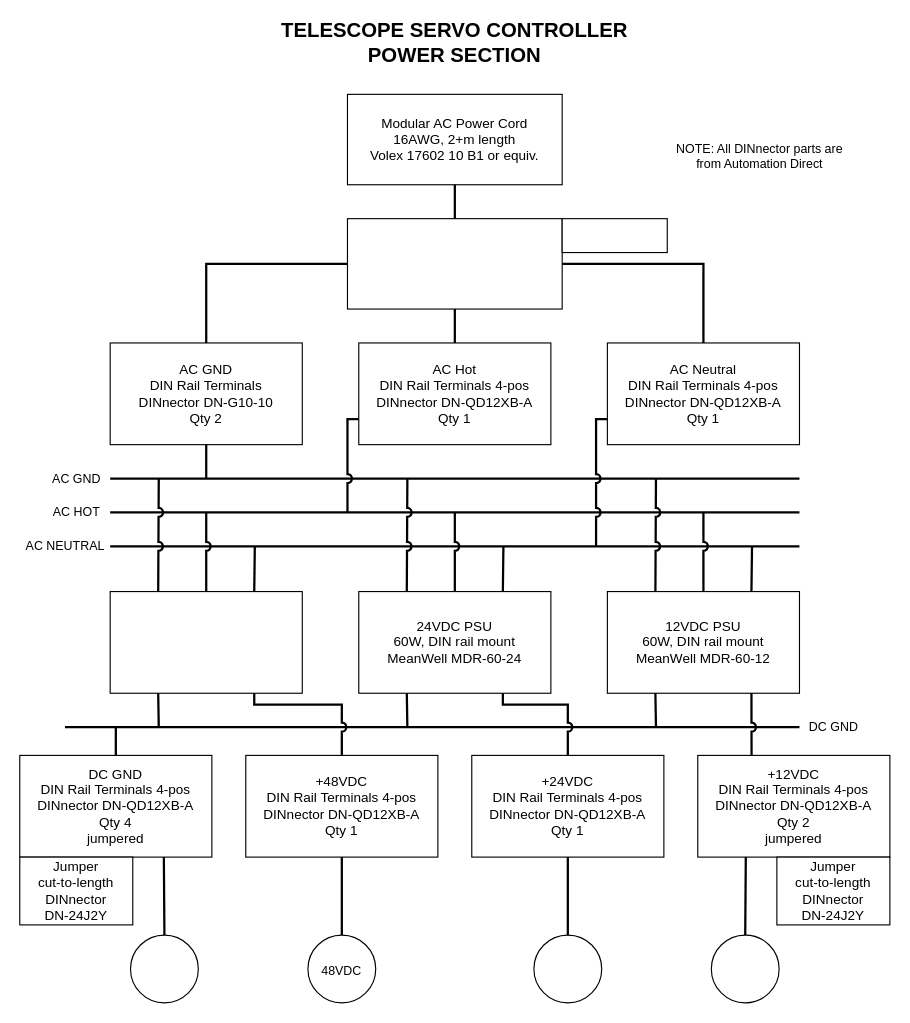
Image size: 910x1023. Some labels were removed from this diagram. Here are the shapes that lost their labels. From the top down, the centre of each, then its label:
At (x=614, y=235): "Fuse - 5A Generic".
At (x=454, y=263): "Fused Power Inlet Module with integrated switch Schaffner FN281-6-06".
At (x=205, y=641): "48VDC PSU 240W, DIN rail mount MeanWell NDR-240".
At (x=163, y=968): "DCGND".
At (x=567, y=968): "24VDC".
At (x=744, y=968): "12VDC".
